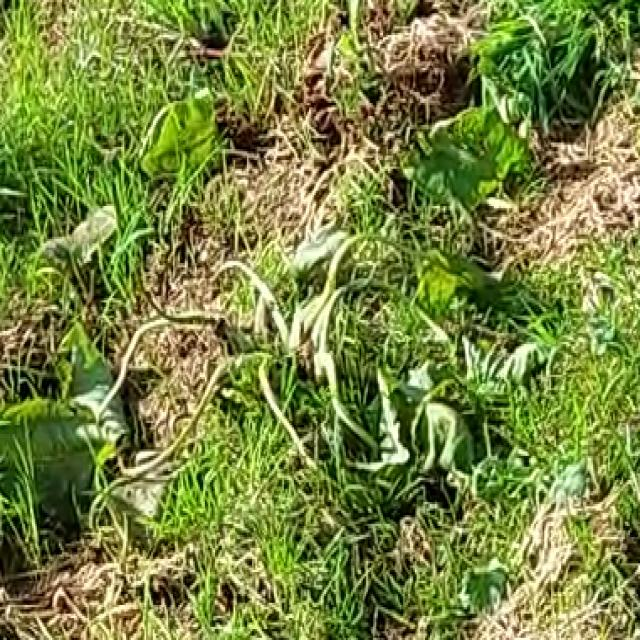organic waste: (37, 94, 551, 537)
